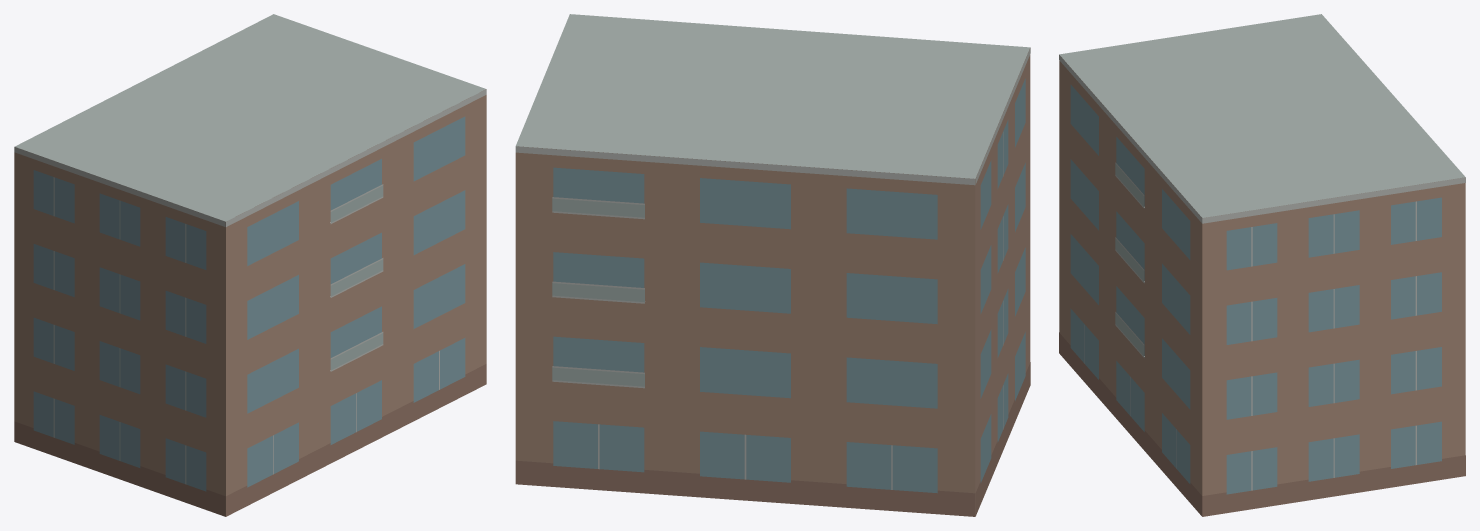
The model's file is survey-upis-32864787.glb.
The picture shows the model from 3 angles, left to right: view 1: azimuth 30°, elevation 25°; view 2: azimuth 150°, elevation 25°; view 3: azimuth 270°, elevation 25°; orthographic projection. The views are drawn at different scales.
Parts seen in each view (by area): view 1: survey-upis-32864787.tmp; view 2: survey-upis-32864787.tmp; view 3: survey-upis-32864787.tmp.
Boxes of the visible parts, x1,y1,x2,y2 form: survey-upis-32864787.tmp: (14,14,486,516); survey-upis-32864787.tmp: (515,14,1030,516); survey-upis-32864787.tmp: (1059,14,1465,516).
Size of the model in its own units: 18.9 by 12.9 by 15.92.
